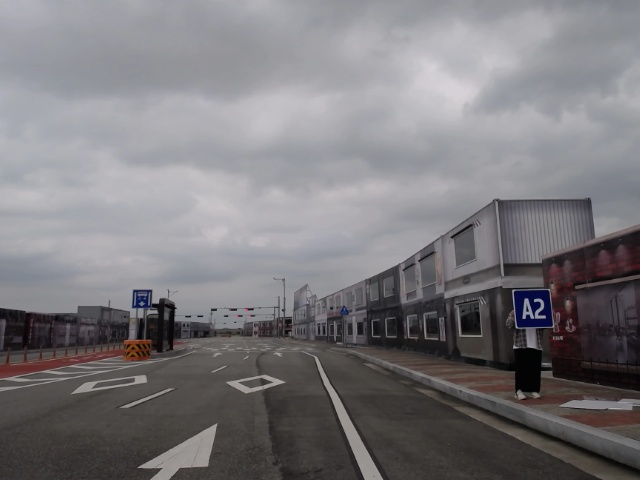delivery_a2: (513, 289, 554, 329)
